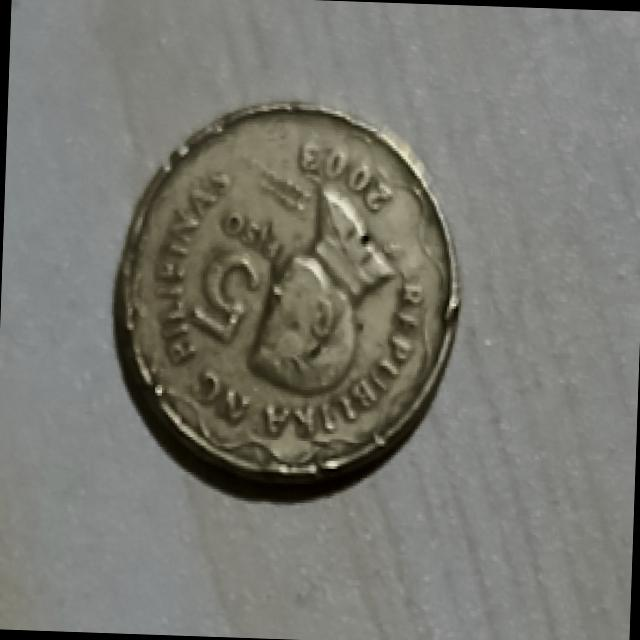5_peso: (121, 107, 452, 479)
